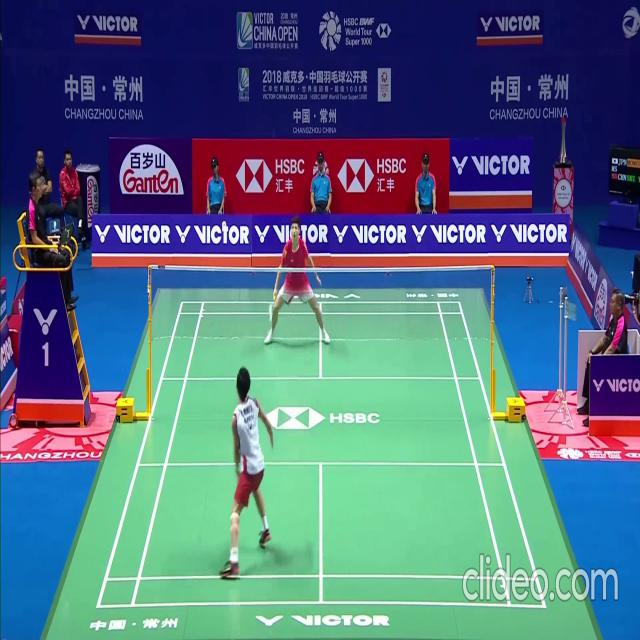Shuttlecock: (222, 220, 227, 228)
